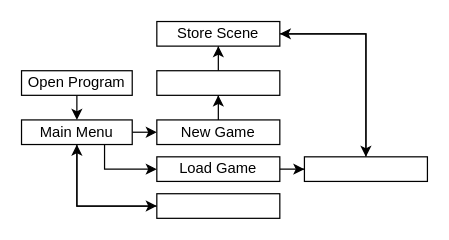
Image size: 449x240. Some labels were removed from this diagram. The box of each missing label's shape, as (x1, y1, x2, y2) in pixels:
Create Scene: (156, 69, 280, 95)
Load Scene: (303, 156, 427, 181)
Settings: (156, 192, 280, 218)
